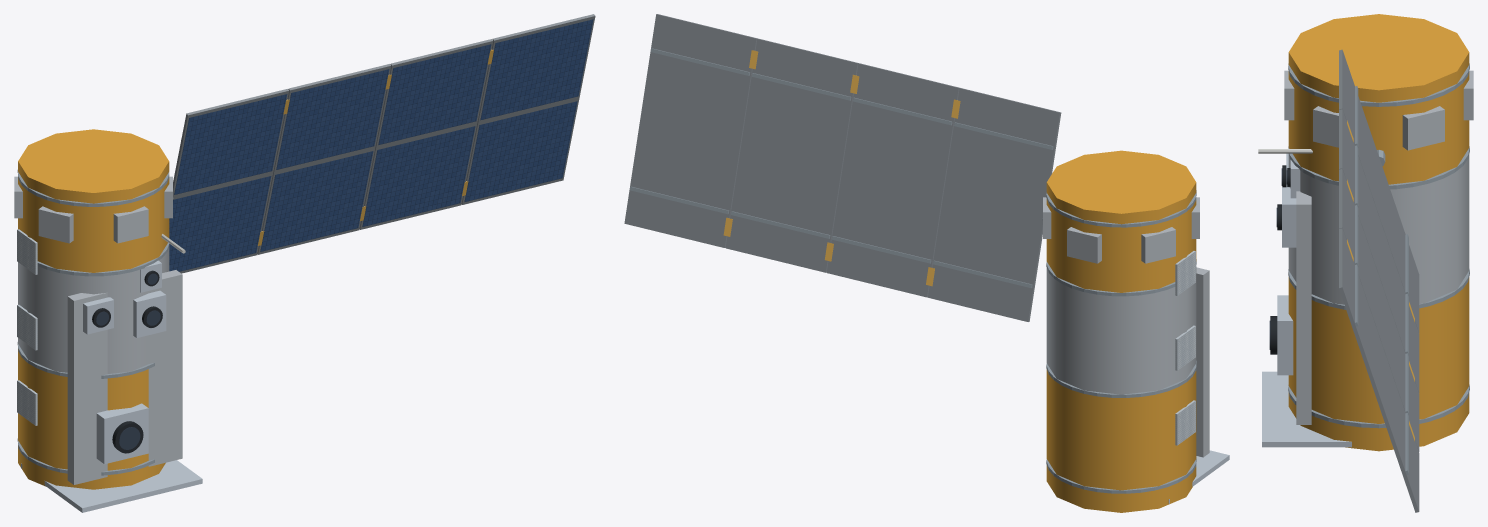
Rendered from noaa-erbe.glb.
3 views of the same model, side by side, from view 1: azimuth 30°, elevation 25°; view 2: azimuth 150°, elevation 25°; view 3: azimuth 270°, elevation 25° (orthographic). The views are drawn at different scales.
Visible parts, largest first — view 1: Solar cell strings (×8), Reaction control module, Instrument mounting tray, Solar panel substrate (×4), Instrument mounting platform, Equipment support module, Instrument sun shield, Aft equipment pack (×2), Thermal louver panel (×3), AVHRR scanning radiometer housing, Bus flange (×2), Infrared sounder housing (+1 smaller); view 2: Solar panel substrate (×4), Equipment support module, Reaction control module, Instrument mounting platform, Instrument mounting tray, Bus flange (×3), Thermal louver panel (×3), Aft equipment pack (×2), Instrument sun shield; view 3: Reaction control module, Solar panel substrate (×4), Equipment support module, Instrument mounting platform, Instrument mounting tray, Aft equipment pack (×4), Bus flange (×4), Instrument sun shield, AVHRR scanning radiometer housing, Infrared sounder housing, ERBE nonscanner housing, AVHRR scanning radiometer aperture (+1 smaller).
Part boxes in pixels (<box>): Solar cell strings (×8): <box>169,19,593,271</box>; Reaction control module: <box>18,129,169,272</box>; Instrument mounting tray: <box>67,270,182,484</box>; Solar panel substrate (×4): <box>173,14,595,273</box>; Instrument mounting platform: <box>18,247,169,373</box>; Equipment support module: <box>18,349,165,489</box>; Instrument sun shield: <box>21,460,202,512</box>; Aft equipment pack (×2): <box>38,206,148,243</box>; Thermal louver panel (×3): <box>17,229,37,425</box>; AVHRR scanning radiometer housing: <box>96,403,148,464</box>; Bus flange (×2): <box>17,170,169,276</box>; Infrared sounder housing: <box>133,290,166,337</box>; Solar panel substrate (×4): <box>624,14,1061,321</box>; Equipment support module: <box>1046,369,1196,512</box>; Reaction control module: <box>1046,150,1196,292</box>; Instrument mounting platform: <box>1046,268,1196,394</box>; Instrument mounting tray: <box>1196,267,1209,457</box>; Bus flange (×3): <box>1046,190,1196,493</box>; Thermal louver panel (×3): <box>1175,251,1195,445</box>; Aft equipment pack (×2): <box>1067,227,1175,263</box>; Instrument sun shield: <box>1168,450,1229,503</box>; Reaction control module: <box>1288,14,1469,184</box>; Solar panel substrate (×4): <box>1339,49,1419,512</box>; Equipment support module: <box>1288,277,1469,451</box>; Instrument mounting platform: <box>1288,154,1469,304</box>; Instrument mounting tray: <box>1296,191,1311,424</box>; Aft equipment pack (×4): <box>1284,70,1473,150</box>; Bus flange (×4): <box>1288,63,1469,428</box>; Instrument sun shield: <box>1262,371,1351,447</box>; AVHRR scanning radiometer housing: <box>1277,295,1293,375</box>; Infrared sounder housing: <box>1282,187,1296,247</box>; ERBE nonscanner housing: <box>1290,160,1300,198</box>; AVHRR scanning radiometer aperture: <box>1270,316,1277,354</box>.
Size of the model in its own units: 8.02 by 4.75 by 2.27.
11 materials, 2 textured.
